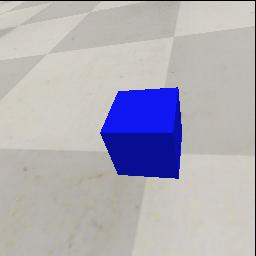box: (100, 87, 182, 180)
